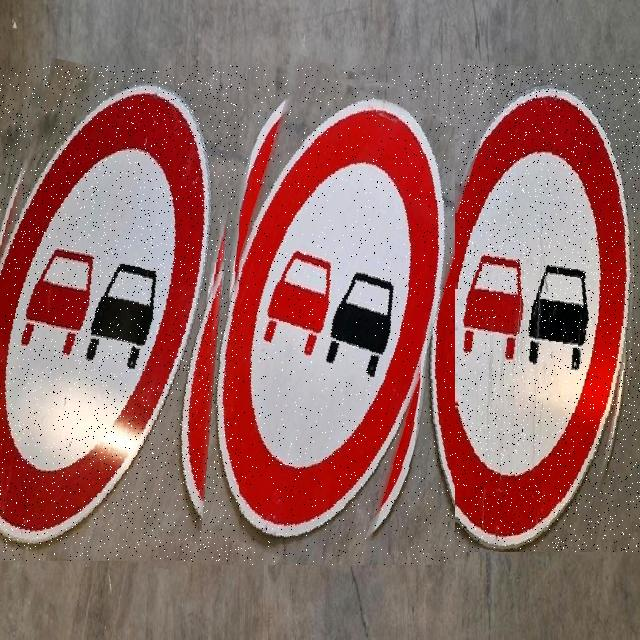no overtaking: (192, 65, 458, 565), (0, 66, 239, 561), (411, 64, 640, 552)
